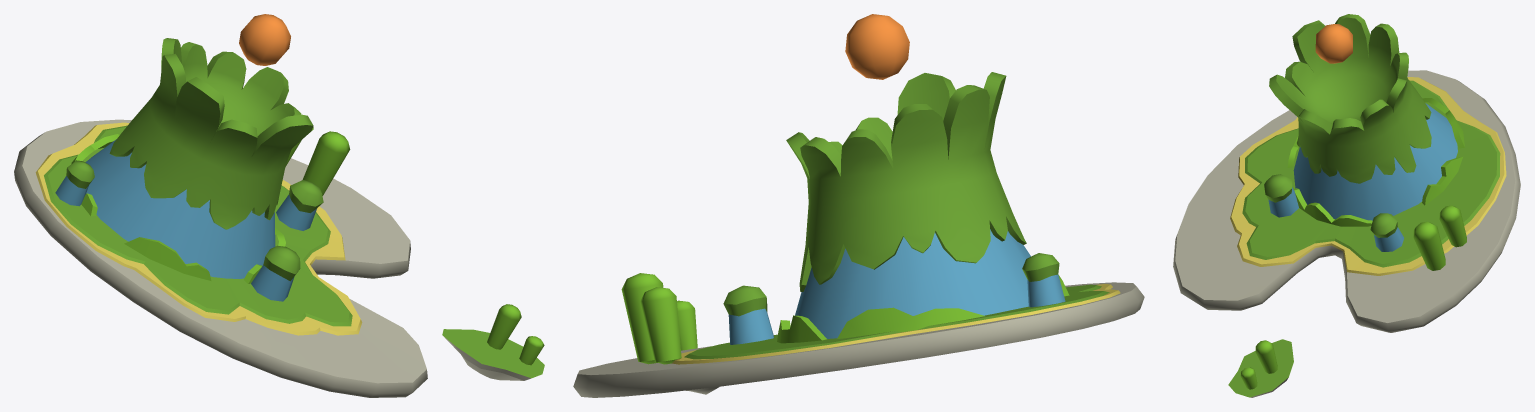
Rendered from Exotic_Planet_Artist.fbx.
3 views of the same model, side by side, from view 1: azimuth 30°, elevation 25°; view 2: azimuth 150°, elevation 25°; view 3: azimuth 270°, elevation 25° (orthographic). The views are drawn at different scales.
Visible parts, largest first — view 1: Planet_Artist_Mesh; view 2: Planet_Artist_Mesh; view 3: Planet_Artist_Mesh.
Boxes of the visible parts, box(x1,y1,x2,y2) form: Planet_Artist_Mesh: box(14, 14, 544, 397); Planet_Artist_Mesh: box(573, 14, 1144, 397); Planet_Artist_Mesh: box(1173, 14, 1520, 397).
Bounding box in the file's own units: 6.99 × 5.83 × 6.27.
